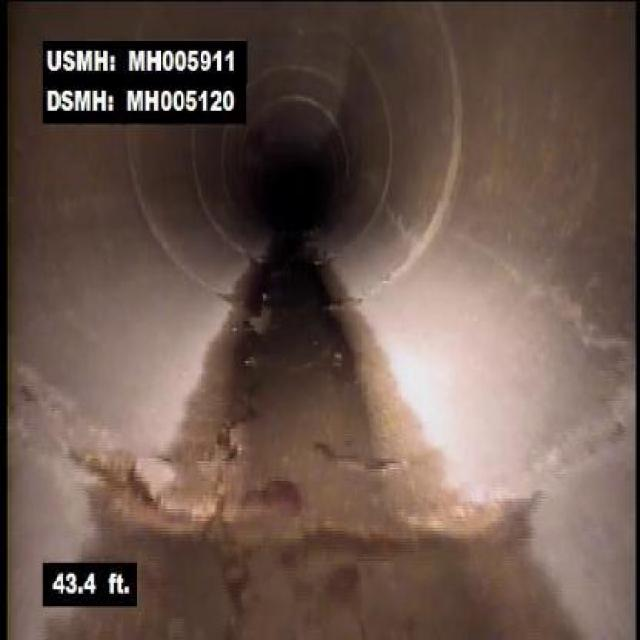Buckling: (198, 486, 262, 639), (212, 311, 266, 480), (63, 441, 175, 514)
Crack: (454, 226, 611, 348)
